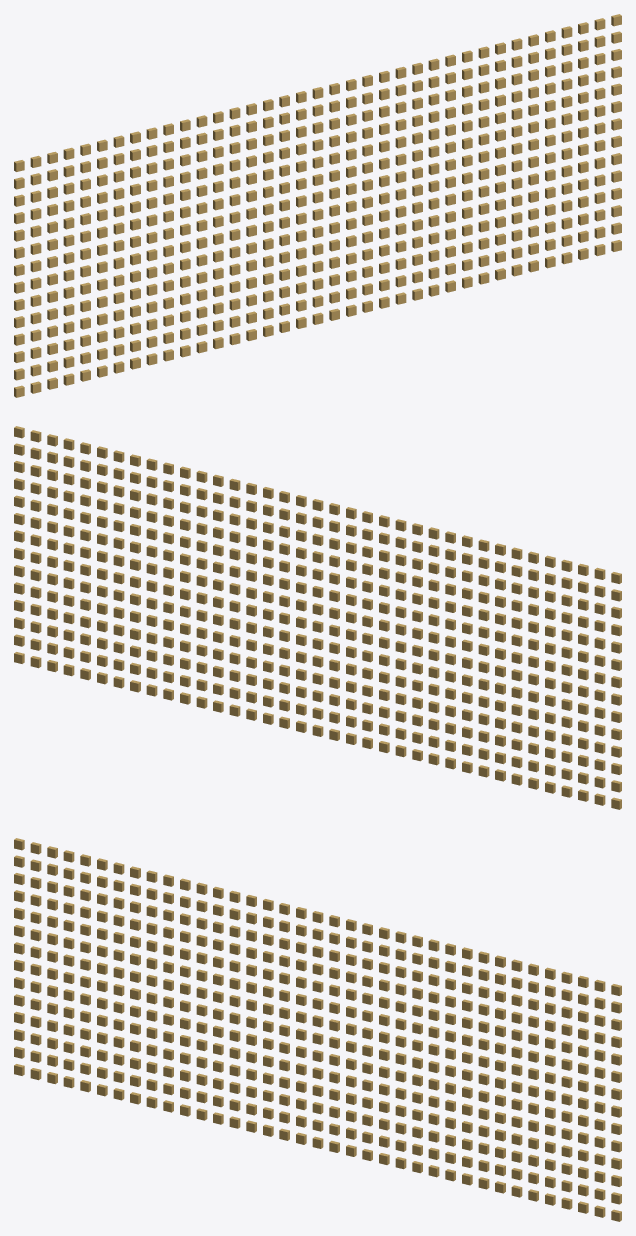
The model's file is lab-5.obj.
The picture shows the model from 3 angles, top to bottom: view 1: azimuth 30°, elevation 25°; view 2: azimuth 150°, elevation 25°; view 3: azimuth 330°, elevation 25°; orthographic projection.
Bounding box in the file's own units: 14.6 × 5.4 × 0.1.
1 material, 1 textured.
